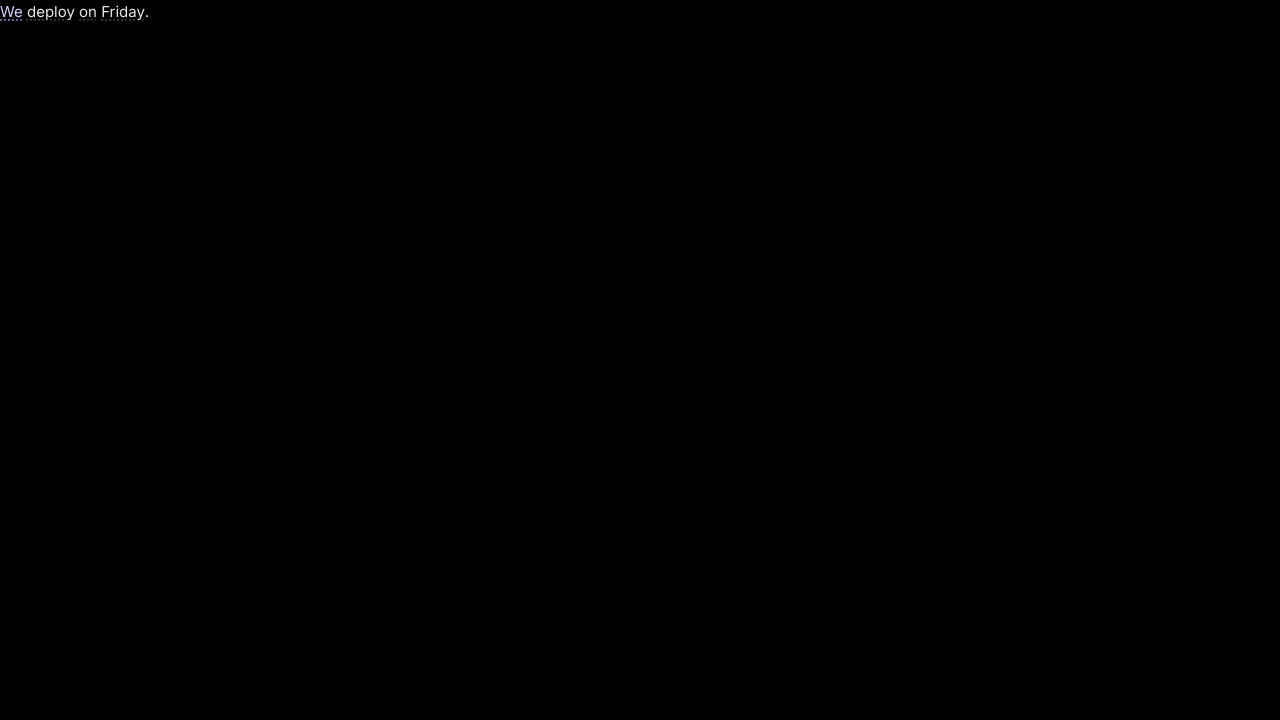
Scenario: mostra tradução e sinônimos ao tocar na palavra
Click the button named "Consultar \"deploy\"" at (51, 12), box [27, 0, 75, 23]
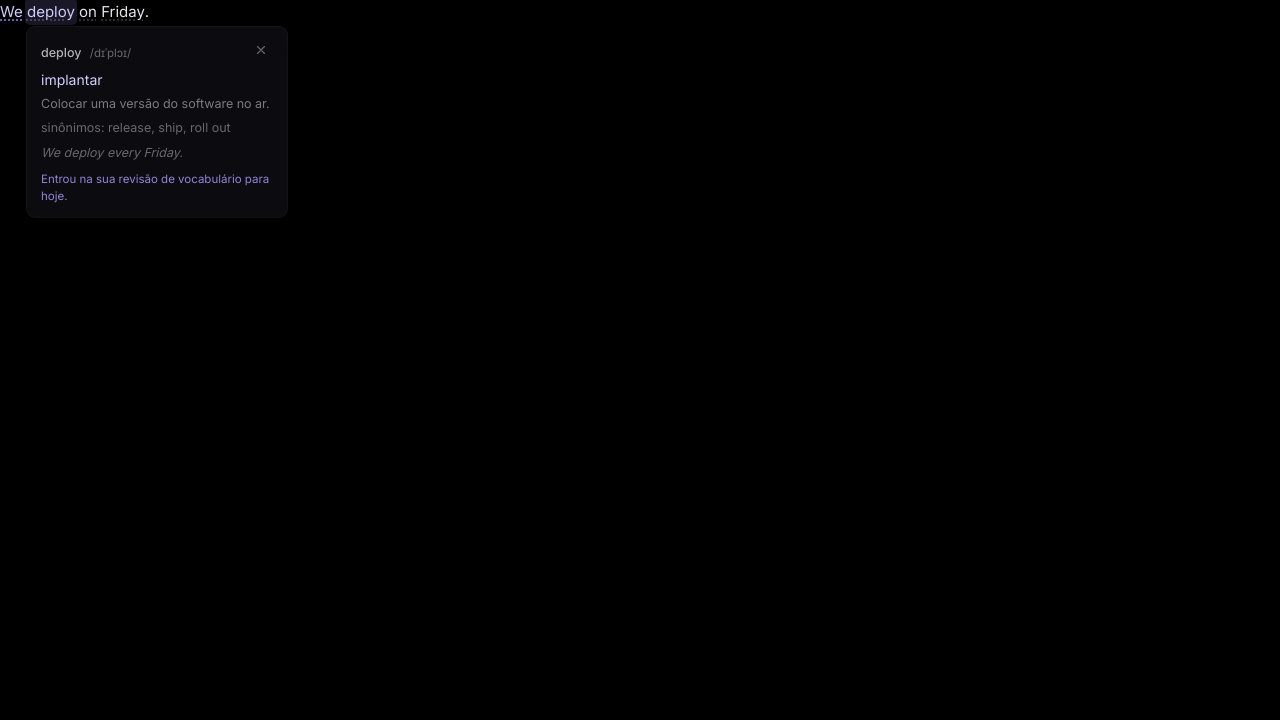
Now the text "implantar" is shown, box [41, 70, 102, 88]
Now the text "sinônimos: release, ship, roll out" is shown, box [41, 120, 231, 136]
Now the text "Colocar uma versão do software no ar." is shown, box [41, 95, 273, 114]
